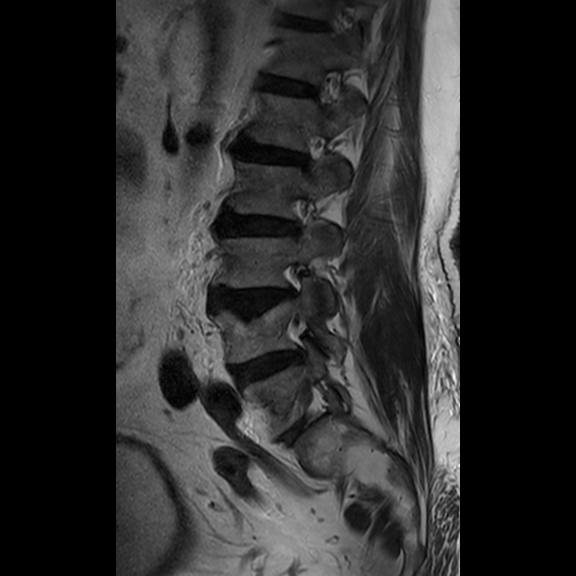LFS0: (282, 184, 326, 241), (271, 251, 312, 307), (298, 126, 336, 174)
